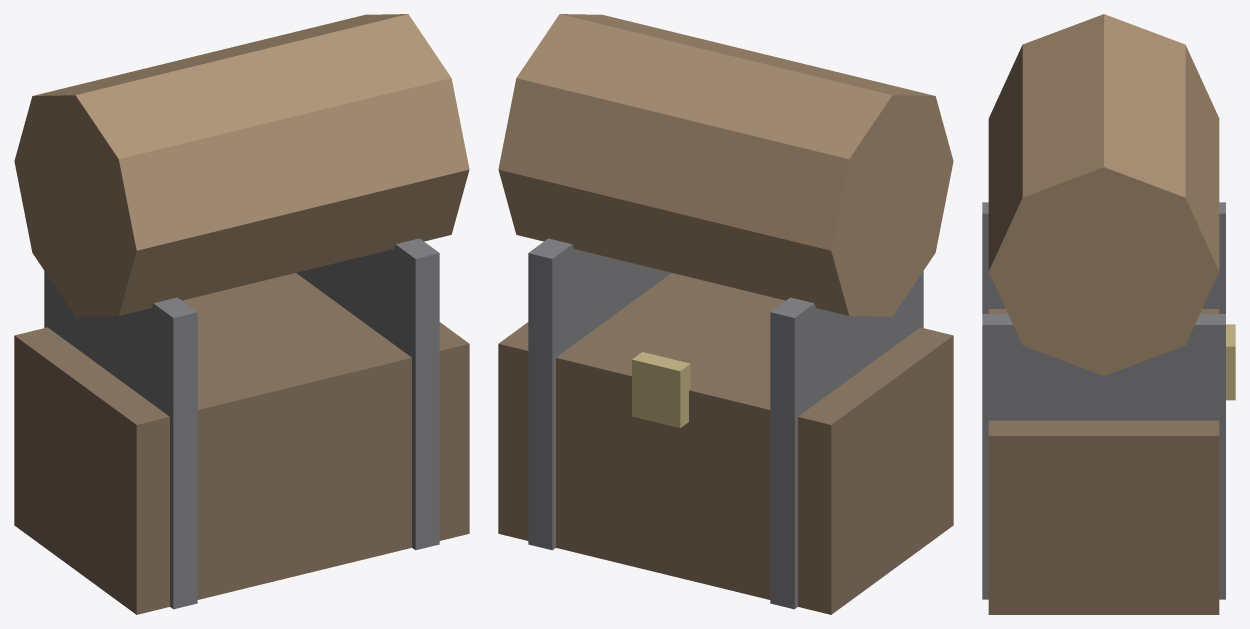
3 views of the same model, side by side, from view 1: azimuth 30°, elevation 25°; view 2: azimuth 150°, elevation 25°; view 3: azimuth 270°, elevation 25° (orthographic). The views are drawn at different scales.
Visible parts, largest first — view 1: structure.chest; view 2: structure.chest; view 3: structure.chest.
Part boxes in pixels (x1,y1,x2,y2): structure.chest: (14, 14, 469, 614); structure.chest: (498, 14, 953, 614); structure.chest: (982, 14, 1235, 614).
Bounding box in the file's own units: 1.1 × 1.5 × 0.77.
